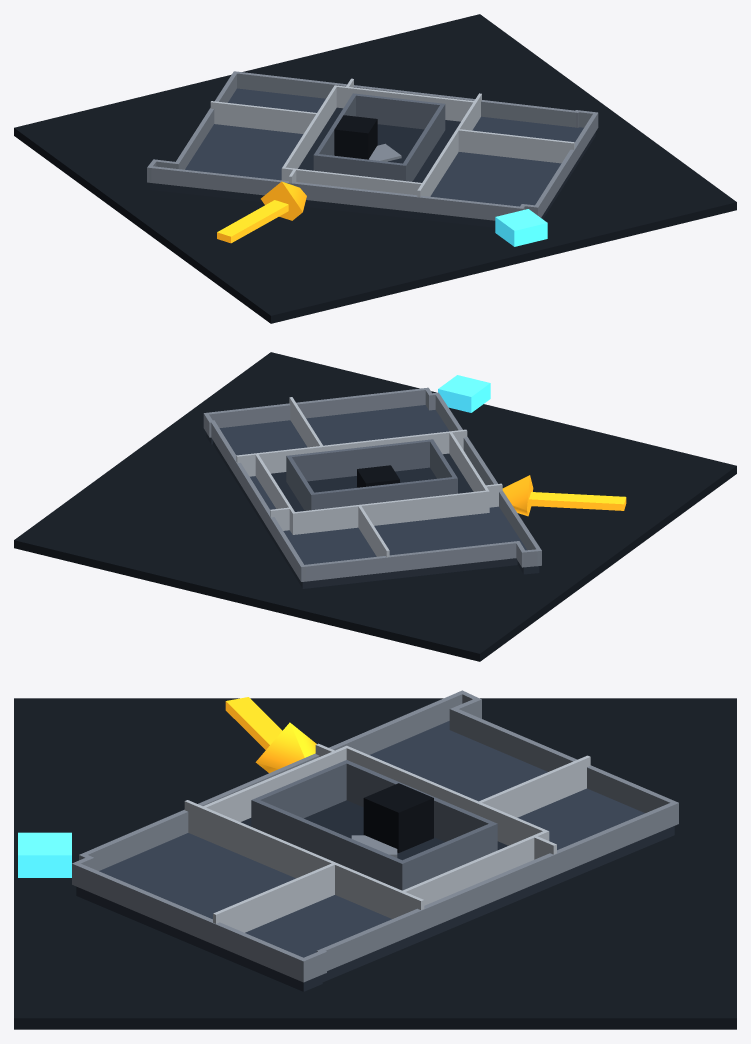
3 views of the same model, one above another, from view 1: azimuth 30°, elevation 25°; view 2: azimuth 150°, elevation 25°; view 3: azimuth 270°, elevation 25° (orthographic). The views are drawn at different scales.
Parts seen in each view (by area): view 1: FireSight 1018 Mission St floor 5; view 2: FireSight 1018 Mission St floor 5; view 3: FireSight 1018 Mission St floor 5.
Part boxes in pixels (bbox=[...]): FireSight 1018 Mission St floor 5: bbox=[14, 14, 736, 323]; FireSight 1018 Mission St floor 5: bbox=[14, 352, 736, 661]; FireSight 1018 Mission St floor 5: bbox=[14, 690, 736, 1029].
Size of the model in its own units: 0.3649 by 0.037 by 0.3485.
